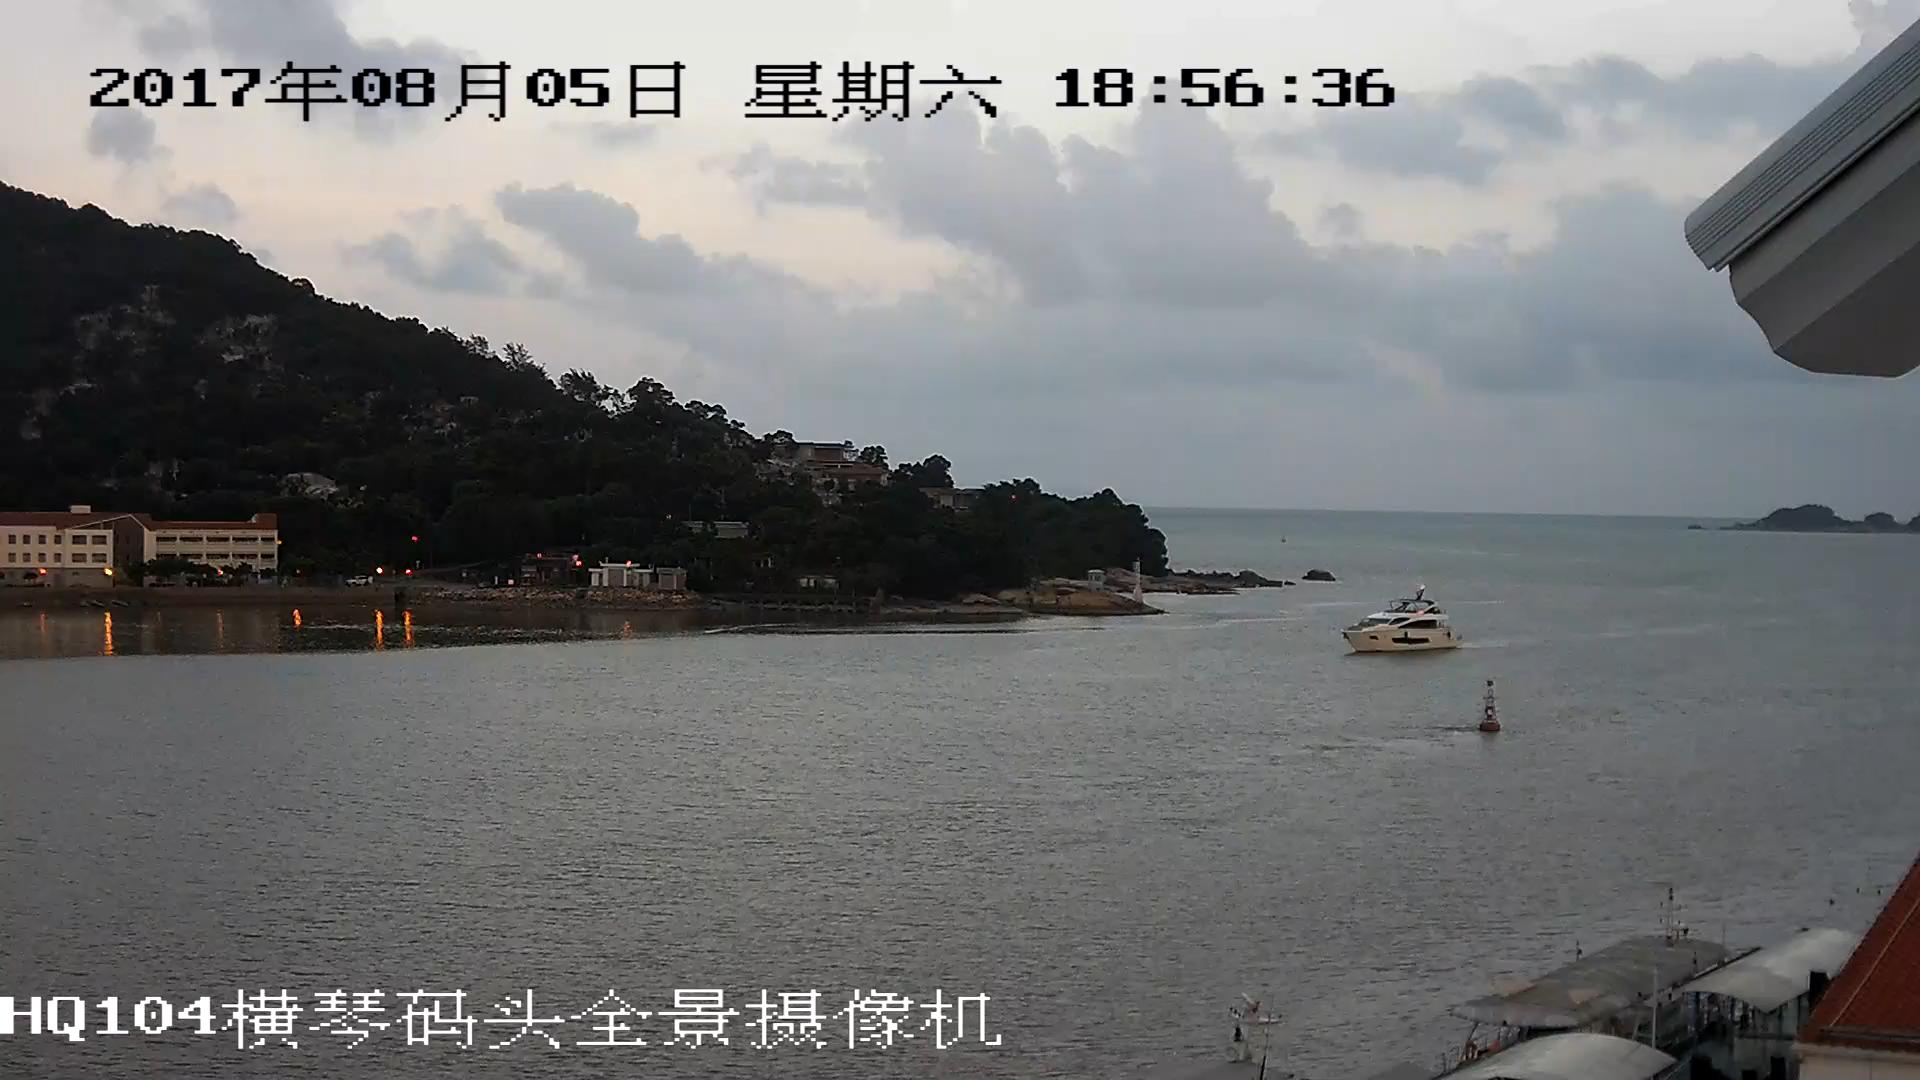passenger ship: (1336, 588, 1455, 654)
